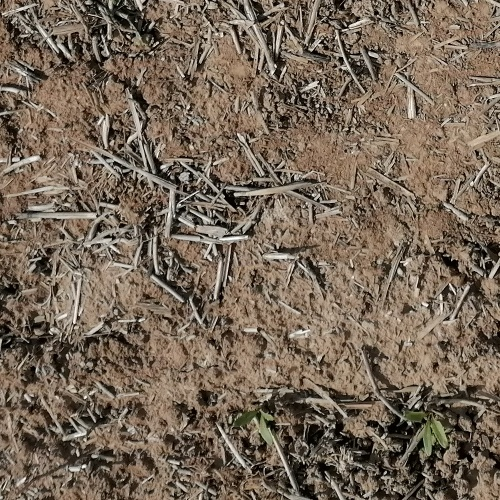beet: (403, 407, 449, 458), (233, 405, 276, 447)
